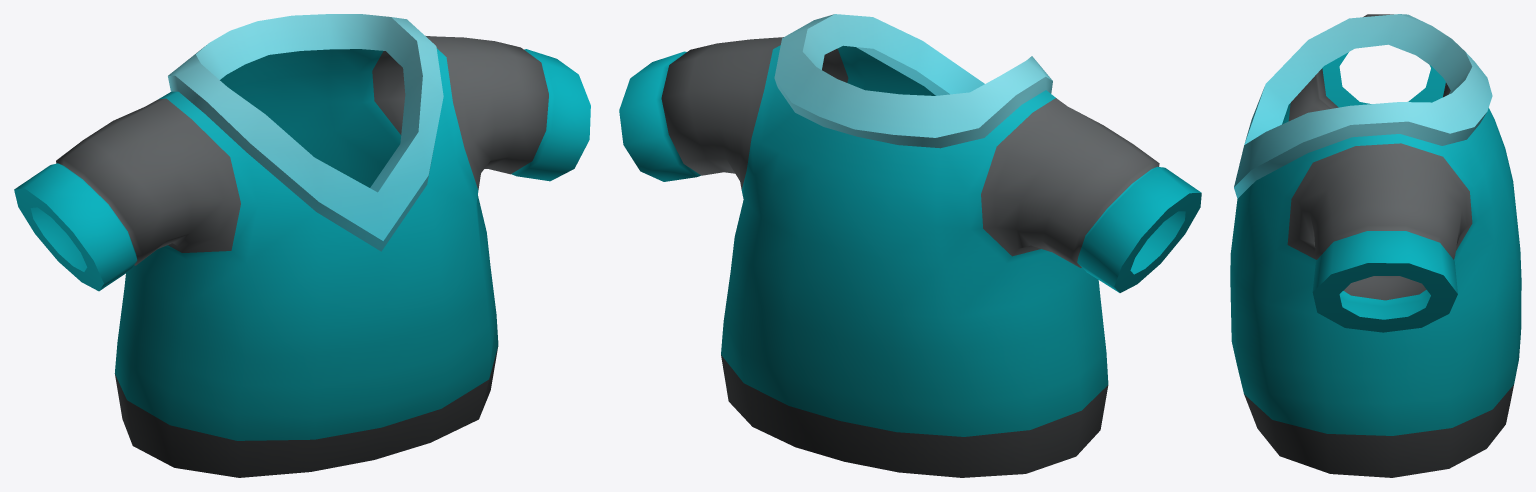
Rendered from Outwear_46.glb.
3 renders of one model, left to right at view 1: azimuth 30°, elevation 25°; view 2: azimuth 150°, elevation 25°; view 3: azimuth 270°, elevation 25°, orthographic. The views are drawn at different scales.
Visible parts, largest first — view 1: Outwear_46; view 2: Outwear_46; view 3: Outwear_46.
Boxes of the visible parts, x1,y1,x2,y2 form: Outwear_46: (14, 14, 590, 477); Outwear_46: (619, 14, 1201, 477); Outwear_46: (1230, 14, 1521, 477).
Size of the model in its own units: 0.4042 by 0.2629 by 0.2023.
Materials: 1 (1 with a texture image).
